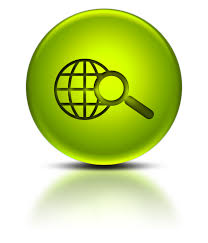searchIcon: (93, 70, 157, 120)
